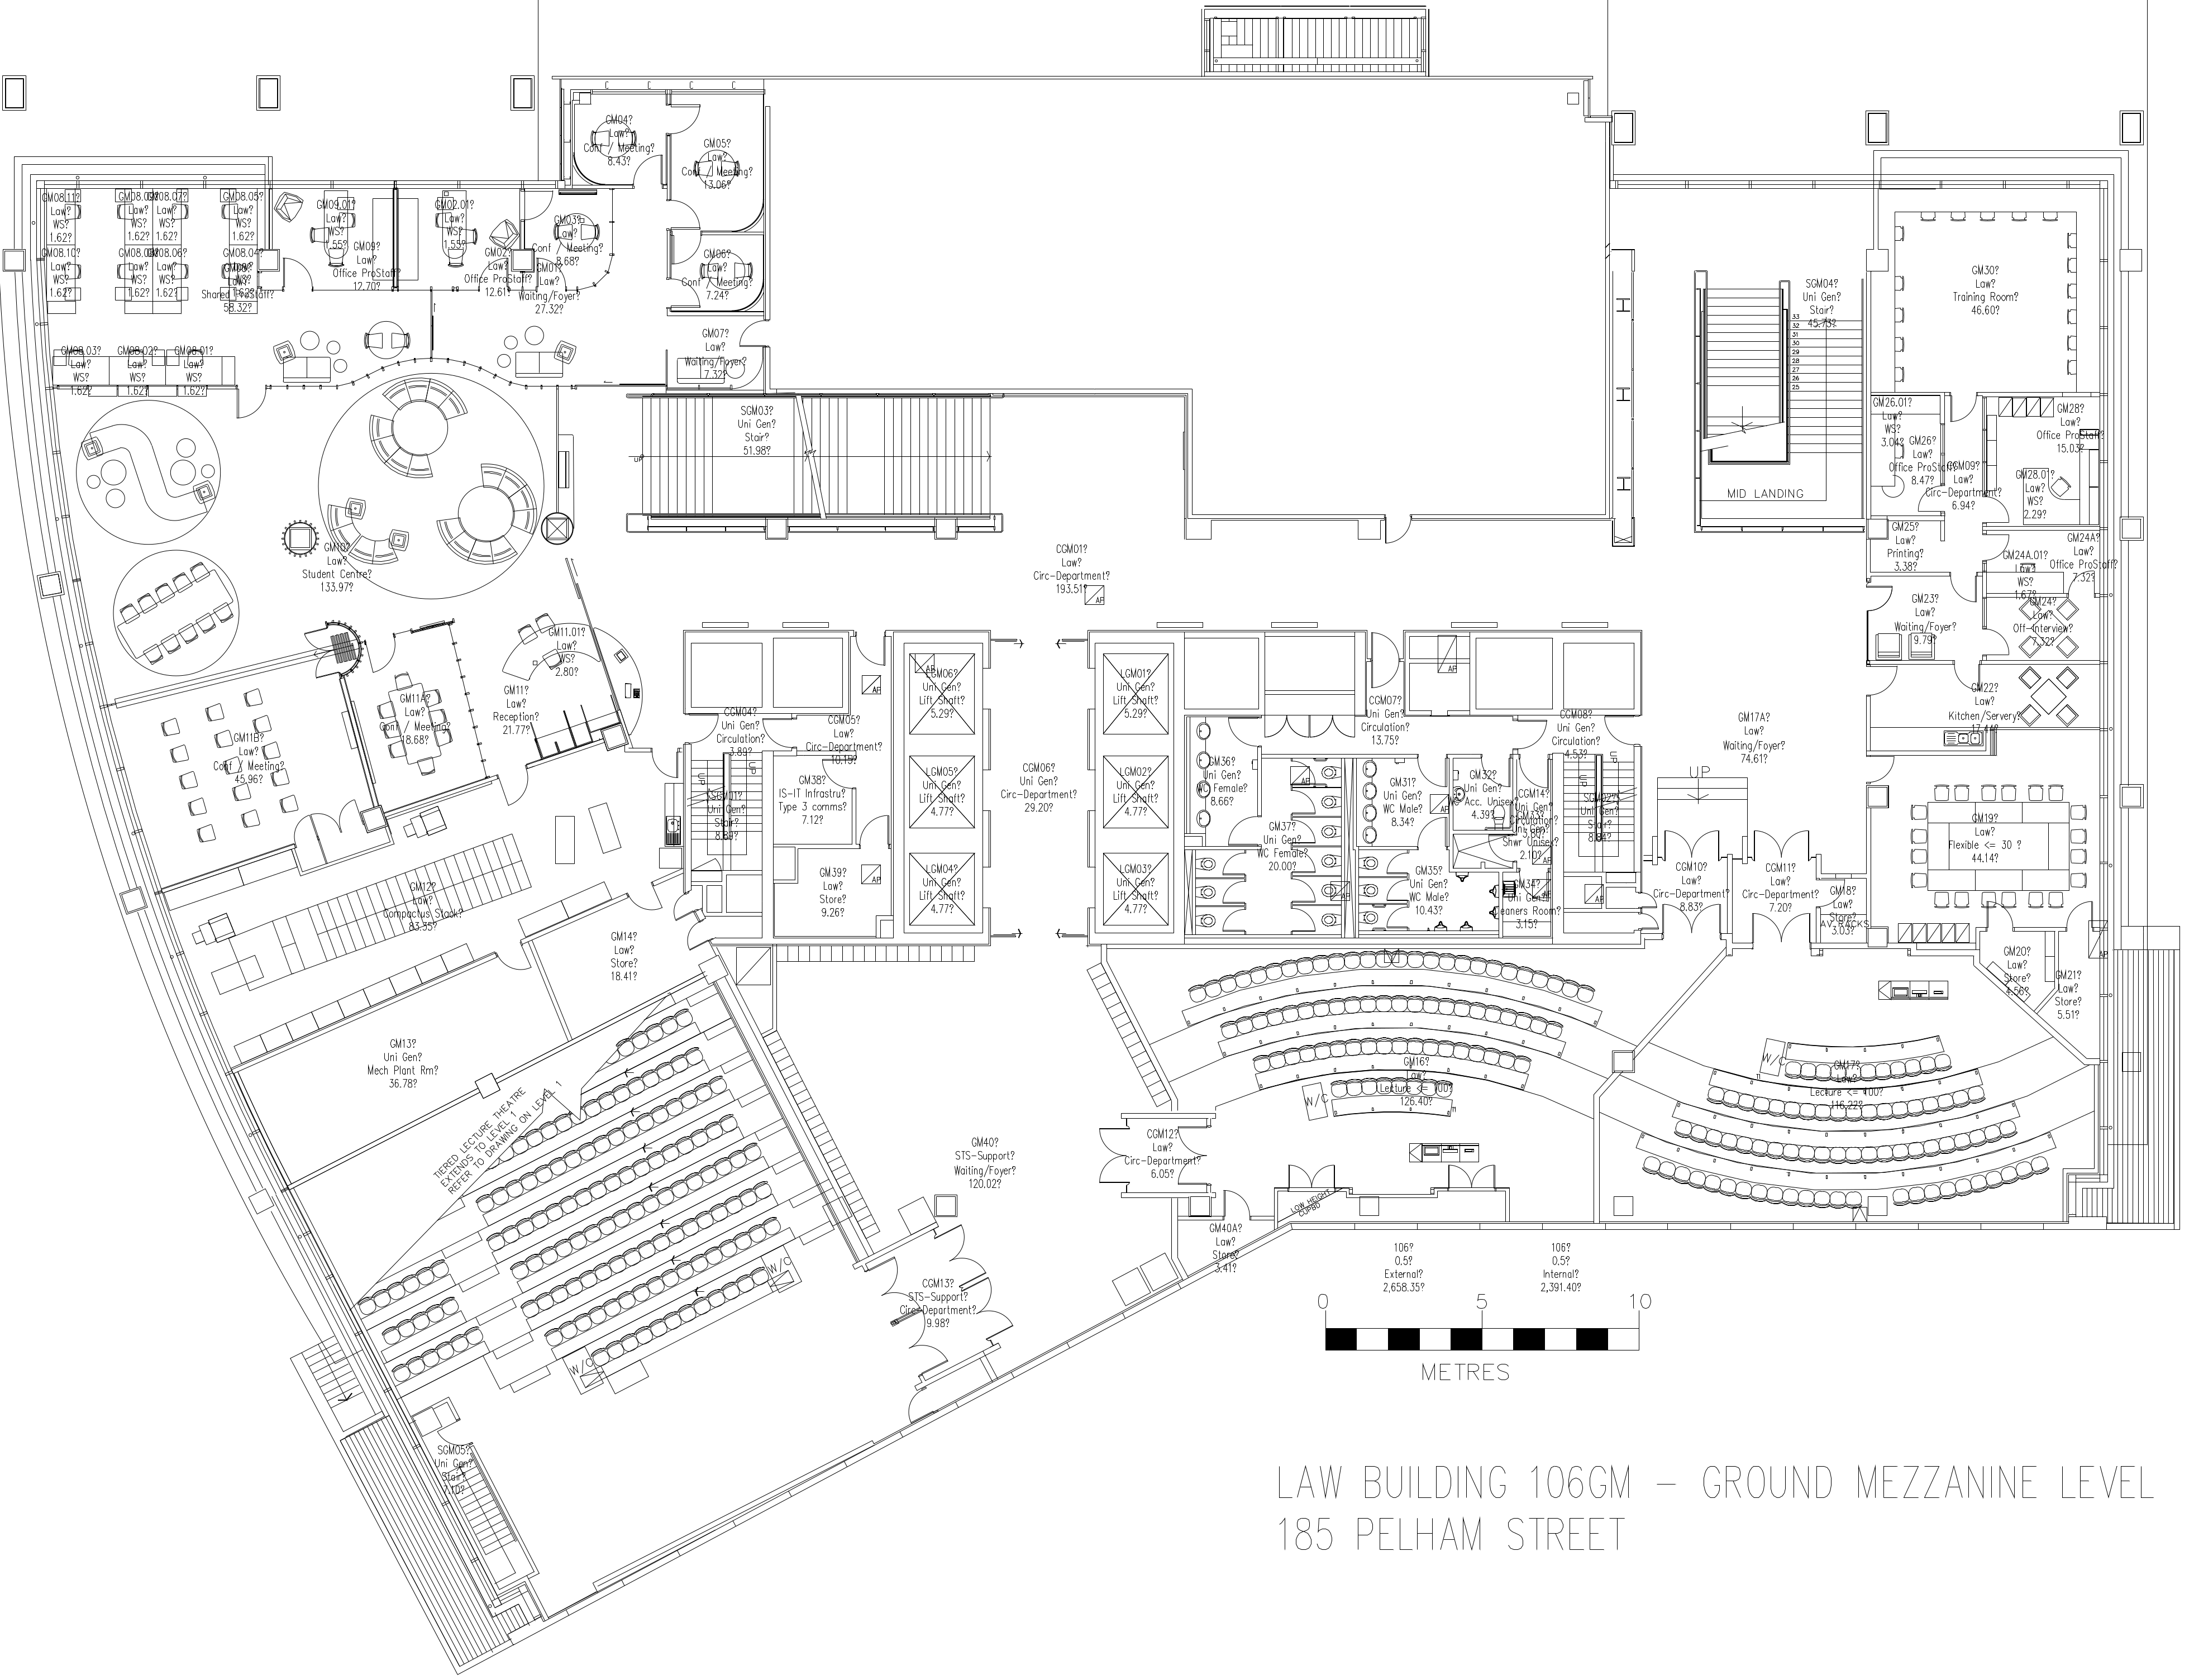door: (964, 1274, 1018, 1339), (865, 1256, 920, 1322), (312, 794, 362, 840), (1751, 824, 1813, 858), (1751, 909, 1813, 942), (1659, 824, 1721, 858), (1174, 1126, 1206, 1188), (1096, 1124, 1128, 1184), (1285, 1158, 1340, 1188), (500, 769, 535, 812), (1414, 757, 1449, 791), (1218, 1184, 1257, 1214), (630, 884, 664, 918), (500, 942, 533, 976), (1225, 716, 1260, 748), (1599, 715, 1634, 746), (897, 1387, 927, 1424), (281, 256, 314, 288), (233, 388, 267, 420), (854, 637, 888, 669), (856, 812, 890, 844), (759, 715, 793, 746), (687, 713, 720, 745), (1225, 814, 1259, 845), (1516, 718, 1550, 750), (1867, 584, 1896, 619), (1950, 577, 1979, 612), (1986, 621, 2014, 656), (632, 154, 664, 184), (367, 642, 395, 676), (1871, 665, 1899, 699), (676, 923, 706, 953), (671, 108, 701, 138), (671, 196, 701, 226), (672, 235, 704, 263), (736, 319, 763, 353), (664, 893, 692, 923), (1947, 397, 1977, 425), (651, 752, 680, 780), (2065, 900, 2093, 928), (1984, 900, 2012, 928), (1869, 755, 1897, 784), (1952, 665, 1980, 694), (1913, 485, 1942, 514), (1987, 533, 2012, 561), (1382, 522, 1412, 545)
